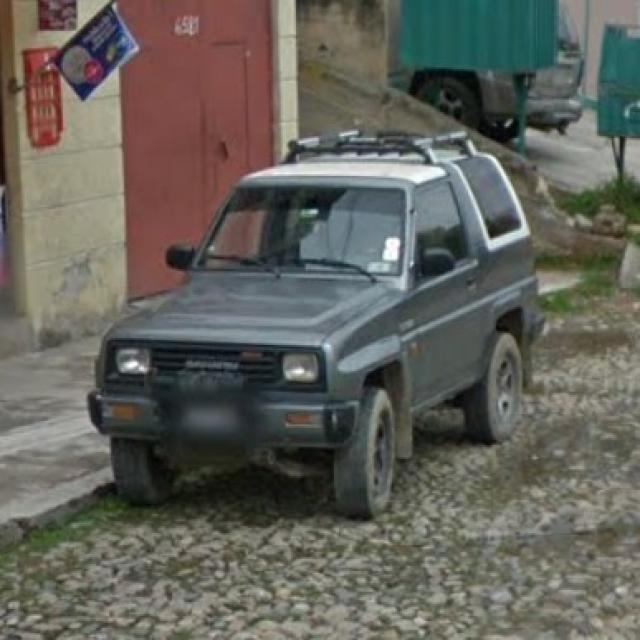Car: (101, 138, 528, 509)
